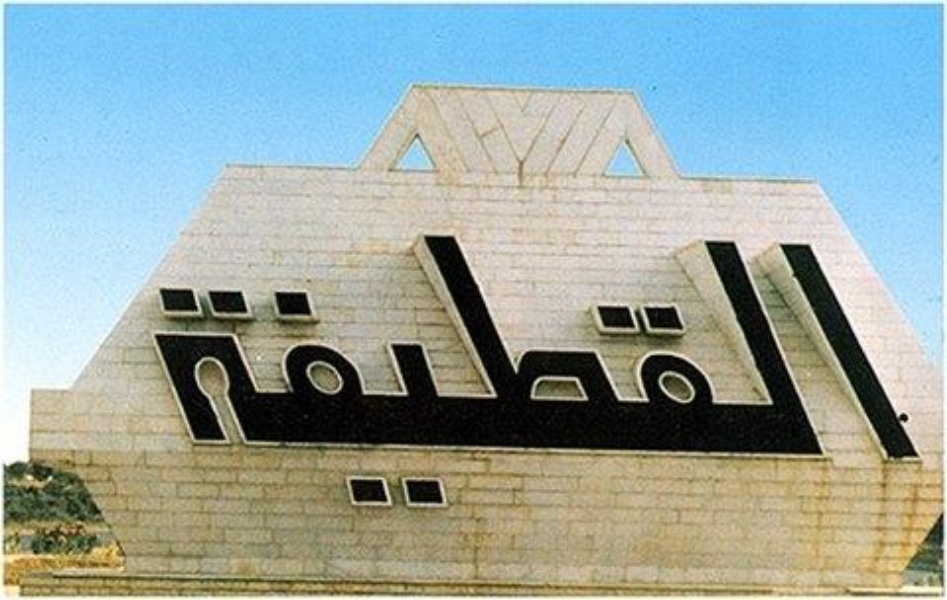text: (145, 226, 160, 529), (161, 226, 176, 529), (177, 226, 192, 529), (193, 226, 208, 529), (209, 226, 224, 529), (225, 226, 240, 529), (241, 226, 256, 529), (257, 226, 272, 529), (273, 226, 288, 529), (289, 226, 304, 529), (305, 226, 320, 529), (321, 226, 336, 529), (337, 226, 352, 529), (353, 226, 368, 529), (369, 226, 384, 529), (385, 226, 400, 529), (401, 226, 416, 529), (417, 226, 432, 529), (433, 226, 448, 529), (449, 226, 464, 529), (465, 226, 480, 529), (481, 226, 496, 529), (497, 226, 512, 529), (513, 226, 528, 529), (529, 226, 544, 529), (545, 226, 560, 529), (561, 226, 576, 529), (577, 226, 592, 529), (593, 226, 608, 529), (609, 226, 624, 529), (625, 226, 640, 529), (641, 226, 656, 529), (657, 226, 672, 529), (673, 226, 688, 529), (689, 226, 704, 529), (705, 226, 720, 529), (721, 226, 736, 529), (737, 226, 752, 529), (753, 226, 768, 529), (769, 226, 784, 529), (785, 226, 800, 529), (801, 226, 816, 529), (817, 226, 832, 529), (833, 226, 848, 529), (849, 226, 864, 529), (865, 226, 880, 529), (881, 226, 896, 529), (897, 226, 912, 529), (913, 226, 928, 529), (135, 226, 144, 529), (929, 226, 934, 529)
